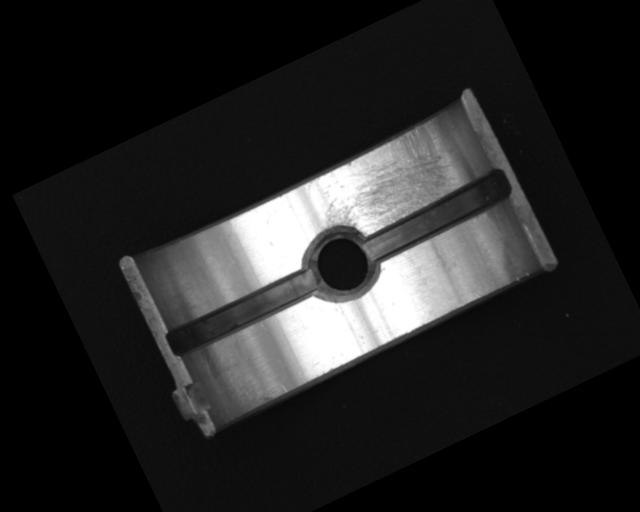gap: (162, 261, 323, 361), (356, 167, 517, 267)
hole: (293, 216, 387, 312)
scratch: (302, 114, 472, 250)
